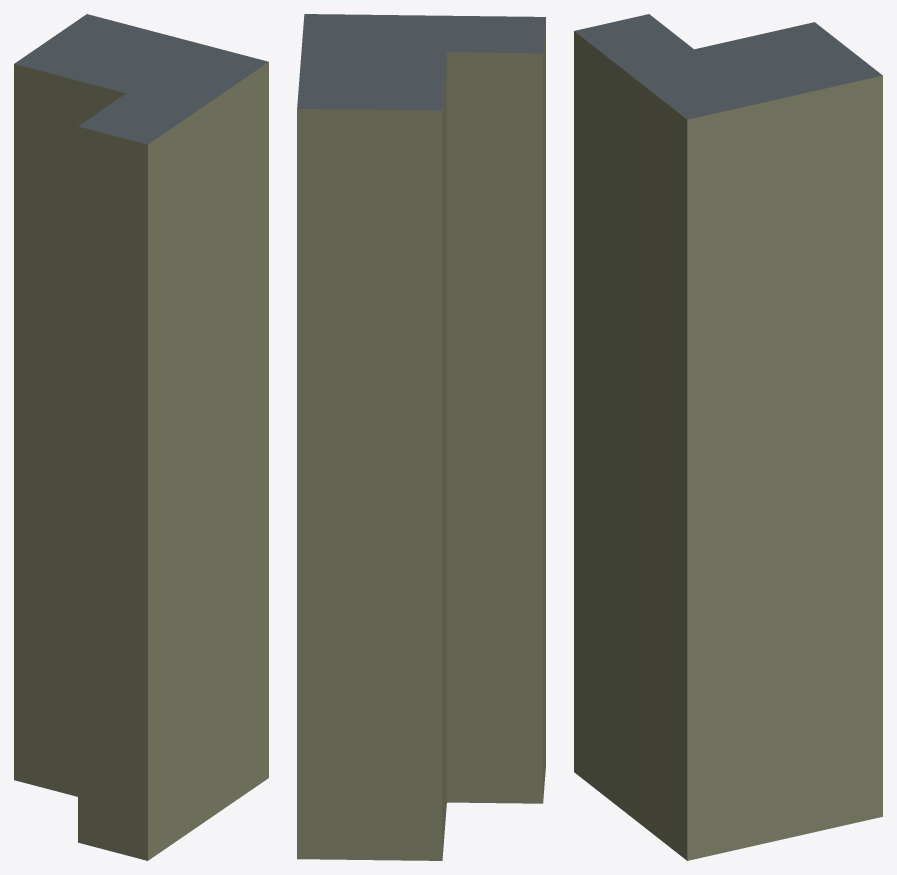
The model's file is nyc-1076173-0.glb.
The picture shows the model from 3 angles, left to right: view 1: azimuth 30°, elevation 25°; view 2: azimuth 150°, elevation 25°; view 3: azimuth 270°, elevation 25°; orthographic projection. The views are drawn at different scales.
Visible parts, largest first — view 1: nyc-1076173-0; view 2: nyc-1076173-0; view 3: nyc-1076173-0.
Part boxes in pixels (x1,y1,x2,y2): nyc-1076173-0: (14,14,268,860); nyc-1076173-0: (297,14,545,860); nyc-1076173-0: (574,14,882,860).
Size of the model in its own units: 61.95 by 202 by 76.45.
